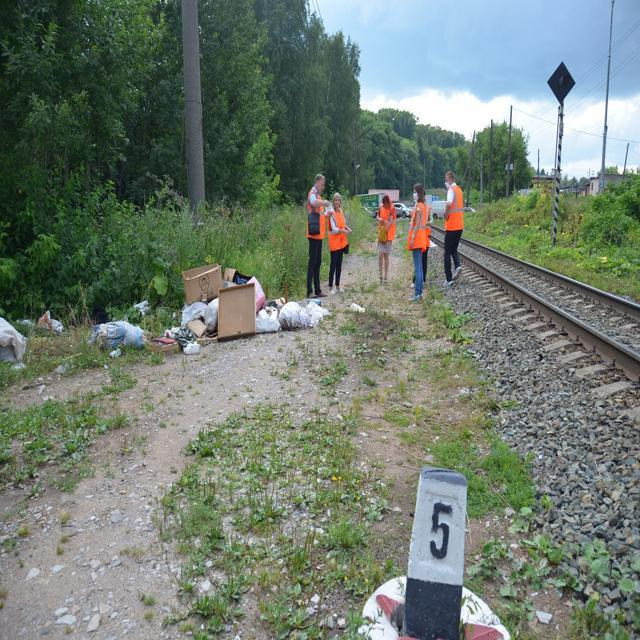lixeira: (176, 260, 328, 355), (86, 321, 152, 351), (0, 316, 28, 372), (37, 309, 65, 335)
